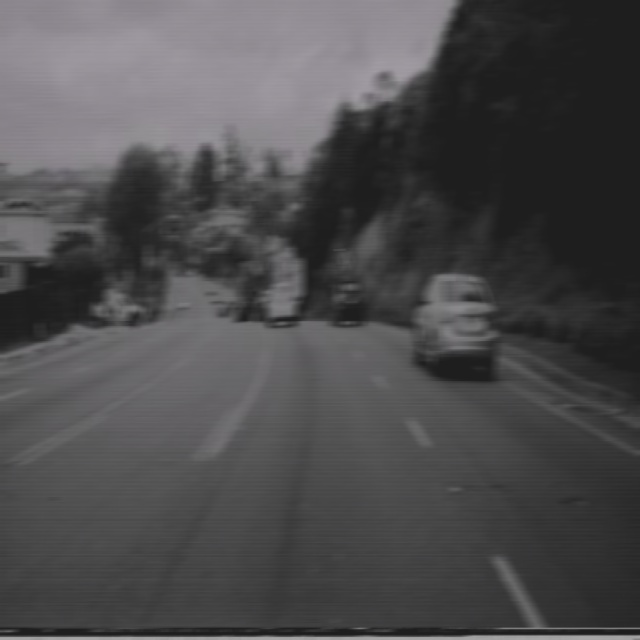pedestrianCrossing: (340, 248, 352, 274)
